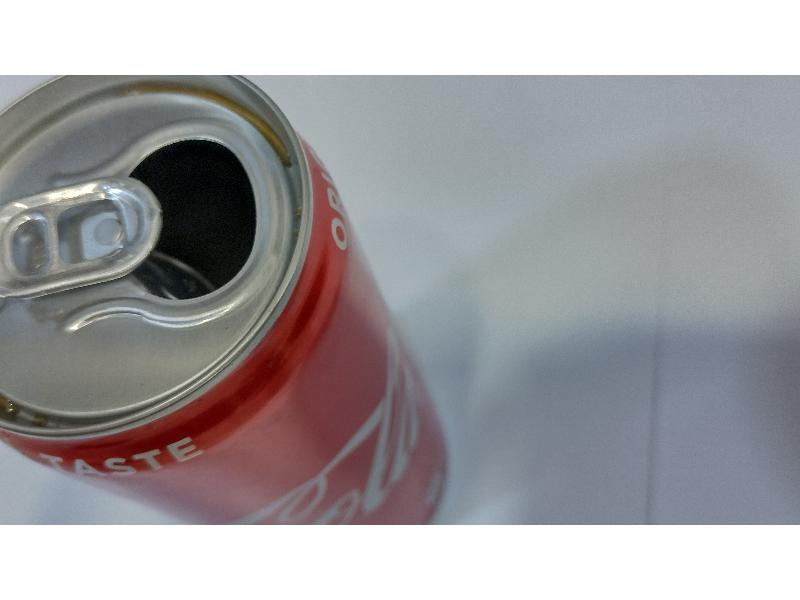can: (1, 76, 457, 519)
